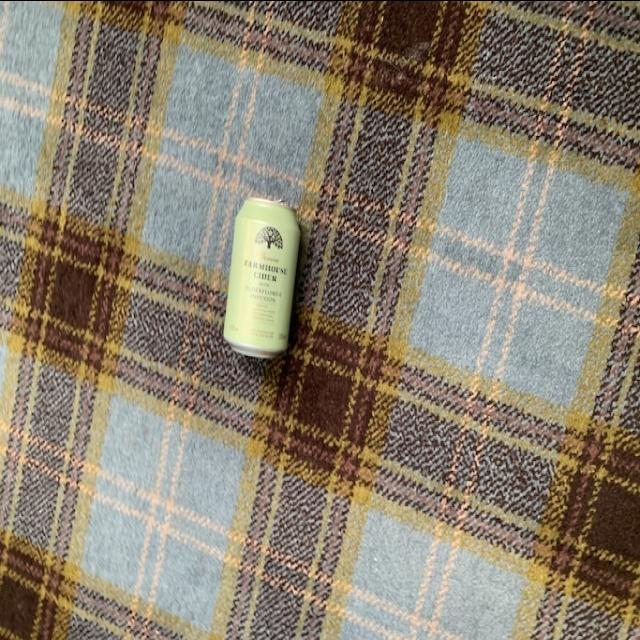Aluminum Can: (221, 192, 307, 358)
